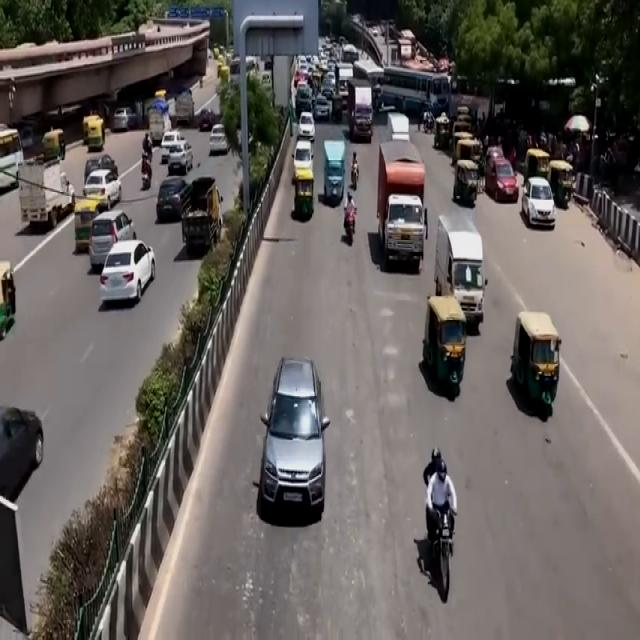BUS: (382, 62, 451, 115)
CMT: (84, 115, 107, 154)
MOTORCYCLE: (429, 508, 457, 606), (345, 206, 357, 246)
TRUCK: (377, 142, 428, 274)
